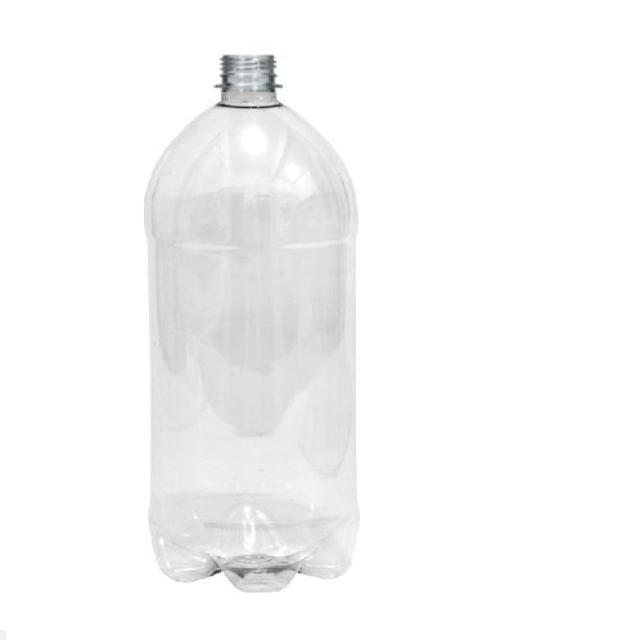bottom: (151, 494, 356, 591)
neck: (147, 57, 356, 244)
